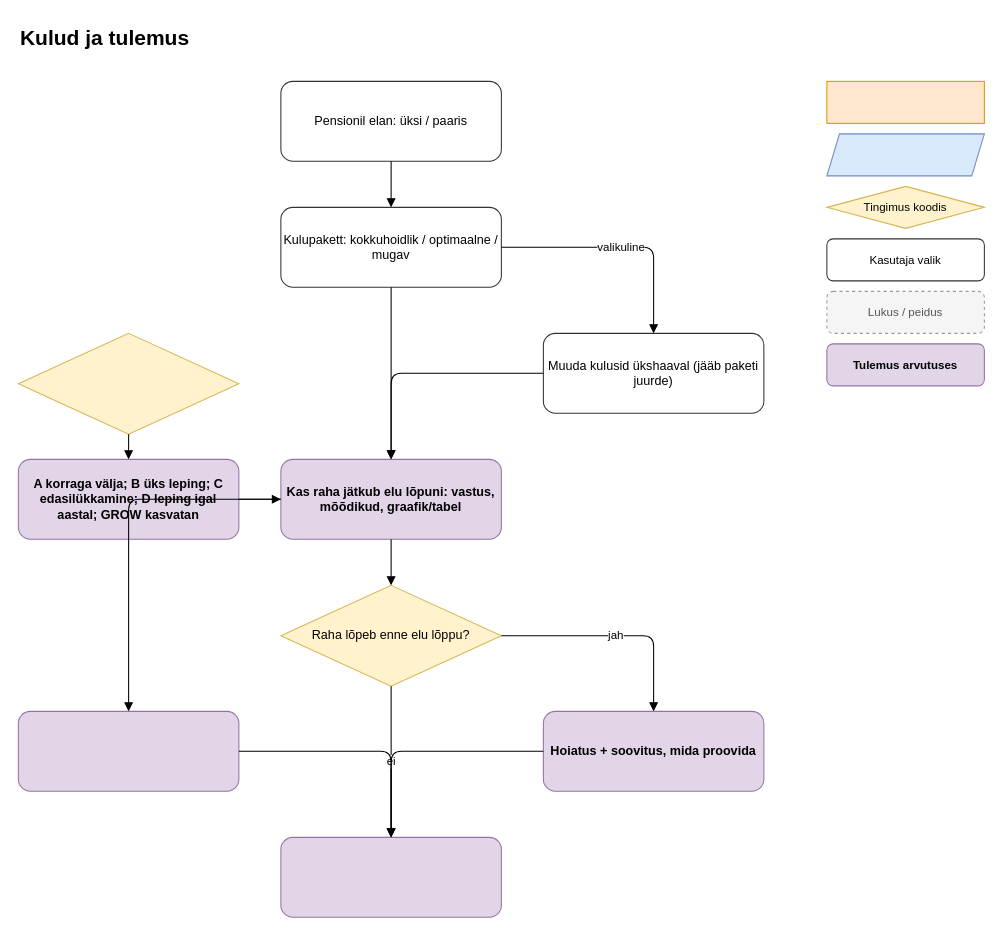
This 1003x936 diagram has some shape labels left out. Each missing label, with the centre of its shape:
"Elukaare samm" goes at pixel 905 101.
"Pärand, otsuste kaart, kokkuvõte; laadi alla MD/PDF; tagasiside" goes at pixel 390 876.
"Sinu stsenaarium samba ja riikliku valikutest" goes at pixel 128 383.
"Sisend (1. vaade)" goes at pixel 905 154.
"Võrdlus A, B, C (kui edasilükkamine lubatud), D, GROW" goes at pixel 128 750.
